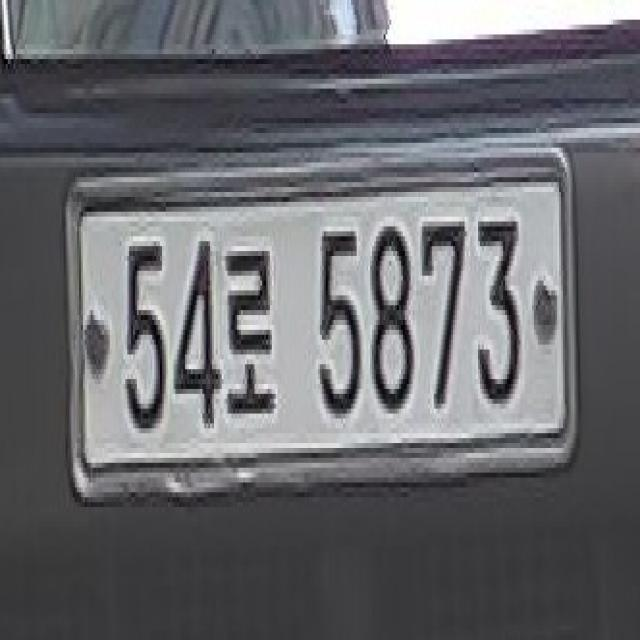3: (476, 177, 542, 409)
4: (173, 207, 226, 463)
5: (314, 172, 362, 453), (114, 236, 175, 453)
7: (418, 182, 468, 448)
8: (362, 177, 422, 448)
license_plate: (56, 143, 582, 512)
lo: (224, 232, 287, 434)
